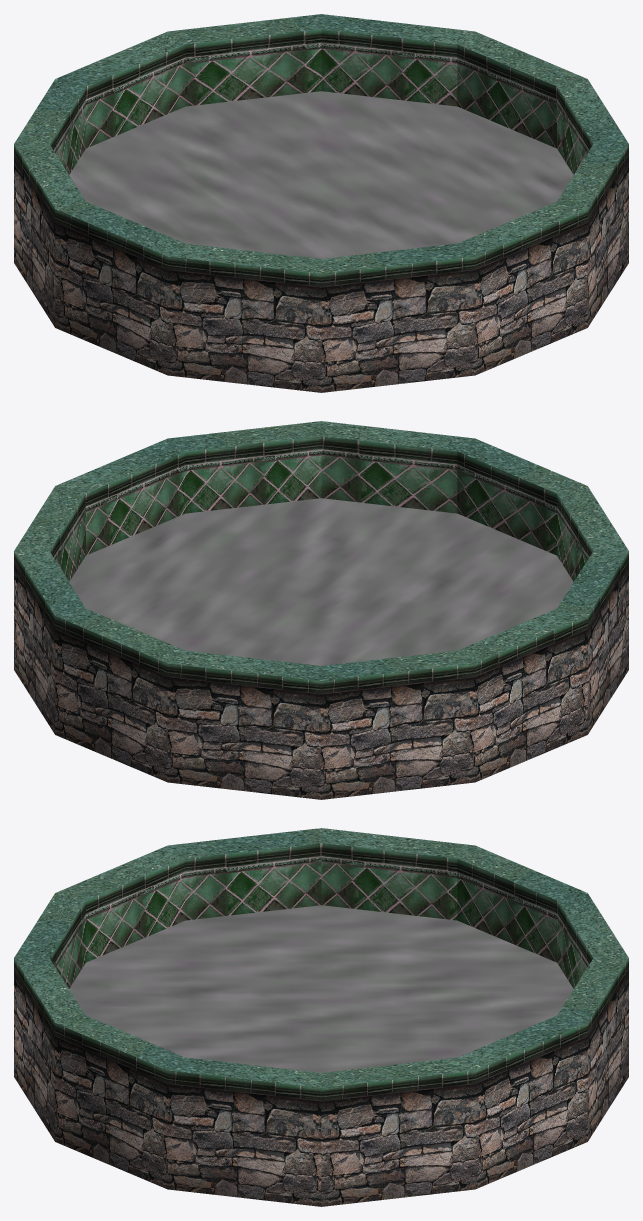
File: fountain_v2.fbx
The picture shows the model from 3 angles, top to bottom: view 1: azimuth 30°, elevation 25°; view 2: azimuth 150°, elevation 25°; view 3: azimuth 270°, elevation 25°; orthographic projection.
Parts seen in each view (by area): view 1: mesh_0, mesh_1; view 2: mesh_0, mesh_1; view 3: mesh_0, mesh_1.
Part boxes in pixels (bbox=[...]): mesh_0: bbox=[14, 14, 628, 392]; mesh_1: bbox=[69, 91, 573, 258]; mesh_0: bbox=[14, 421, 628, 799]; mesh_1: bbox=[69, 498, 573, 665]; mesh_0: bbox=[14, 828, 628, 1206]; mesh_1: bbox=[69, 905, 573, 1072].
Bounding box in the file's own units: 328 × 70 × 328.
2 materials, 2 textured.
